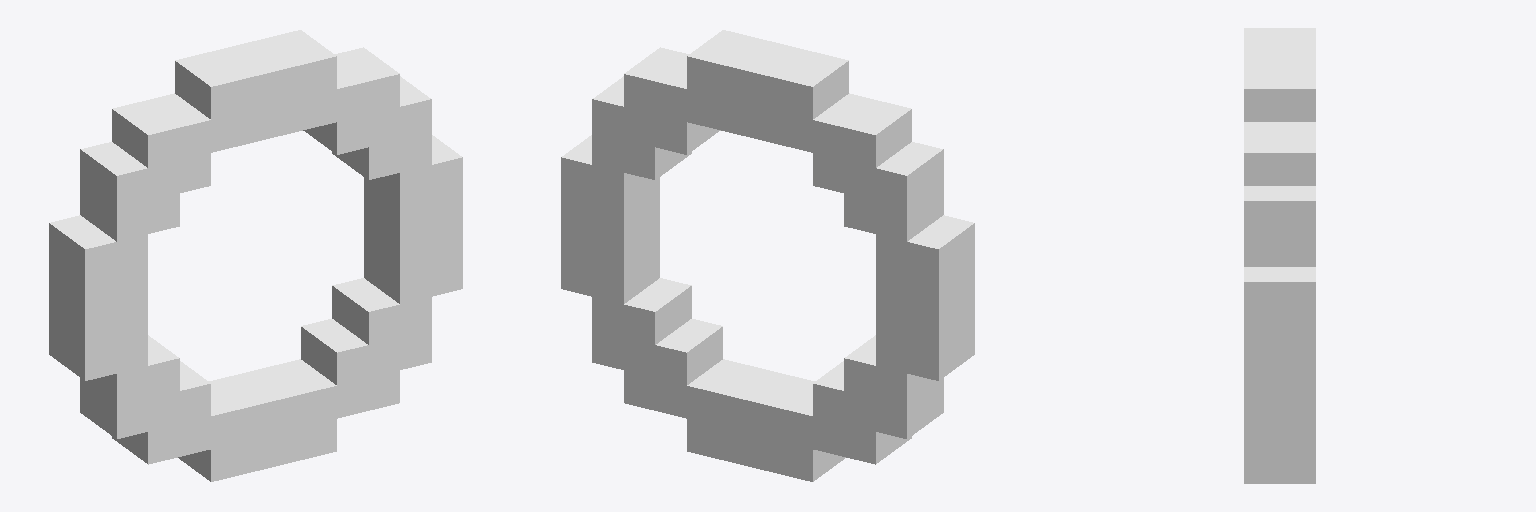
Rendered from Bot1-7.obj.
3 renders of one model, left to right at view 1: azimuth 30°, elevation 25°; view 2: azimuth 150°, elevation 25°; view 3: azimuth 270°, elevation 25°, orthographic.
Visible parts, largest first — view 1: Bot1-7; view 2: Bot1-7; view 3: Bot1-7.
Boxes of the visible parts, box(x1,y1,x2,y2) form: Bot1-7: box(49, 30, 462, 481); Bot1-7: box(561, 30, 974, 481); Bot1-7: box(1244, 28, 1315, 483).
Bounding box in the file's own units: 12 × 12 × 2.